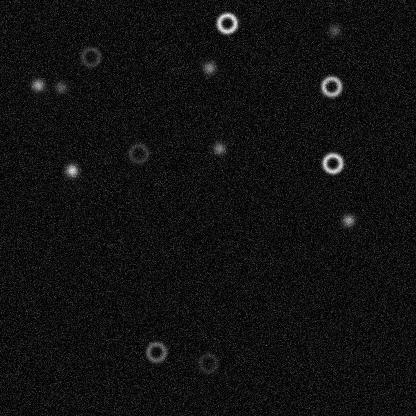Ring: (320, 151, 344, 175), (126, 141, 150, 165), (319, 74, 343, 98), (144, 339, 168, 363), (214, 11, 238, 35), (196, 350, 220, 374), (78, 44, 102, 68)
Spot: (201, 59, 217, 75), (52, 79, 68, 95), (63, 162, 79, 178), (326, 22, 342, 38), (29, 77, 45, 93), (340, 212, 356, 228), (211, 140, 227, 156)
